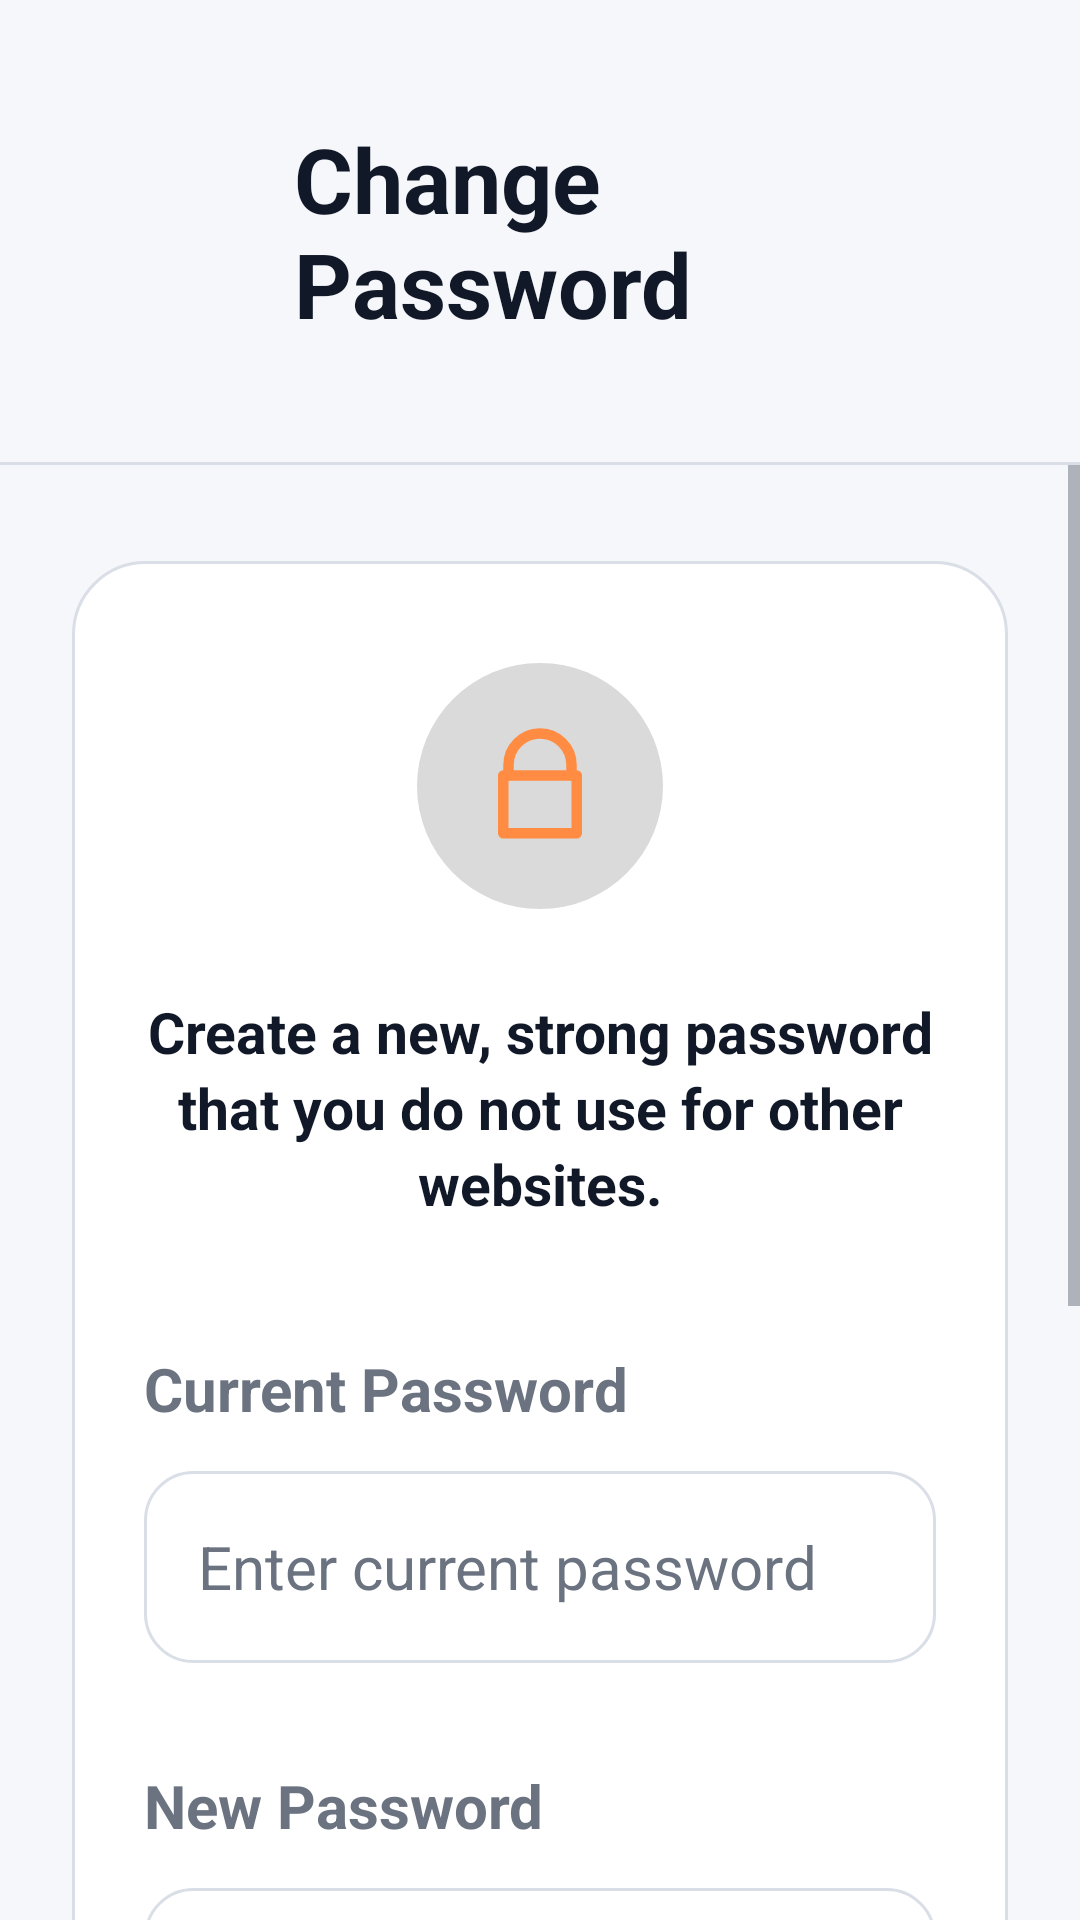

Icon bounding boxes for this 1080w x 1920h phone screenshot, format [left=x1, top=y1, right=x2, bottom=y2]:
lock: [left=498, top=728, right=582, bottom=839]
